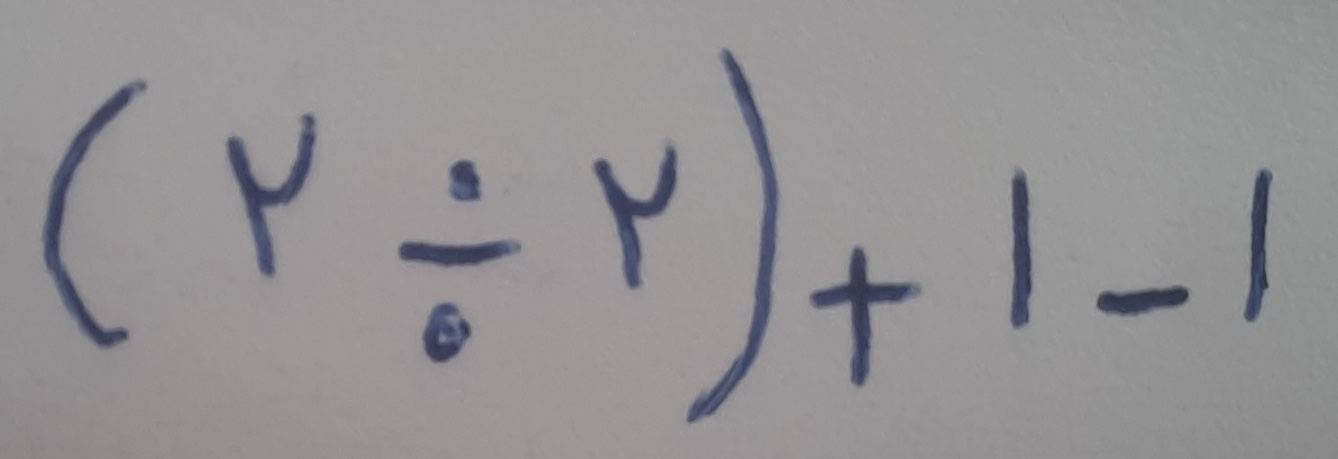character: (679, 44, 783, 428), (38, 72, 152, 351), (393, 155, 527, 368), (803, 239, 927, 392), (221, 108, 320, 281), (588, 136, 684, 295), (1236, 164, 1278, 329), (1003, 161, 1040, 334), (1089, 277, 1193, 322)
